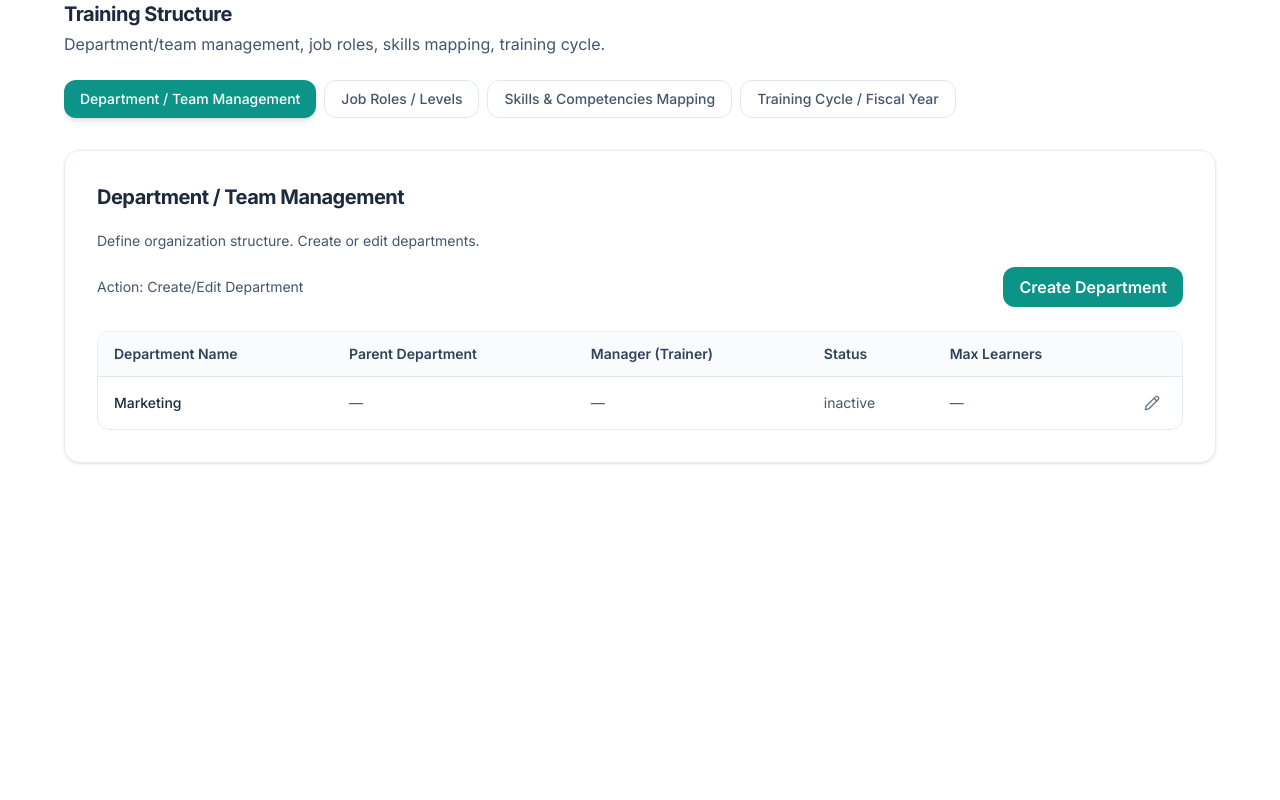
Test: AcademicSetup – Department CRUD › pre-fills department form with existing values when editing
Click the button named "Edit": (1152, 403) x1=1138 y1=389 x2=1166 y2=417
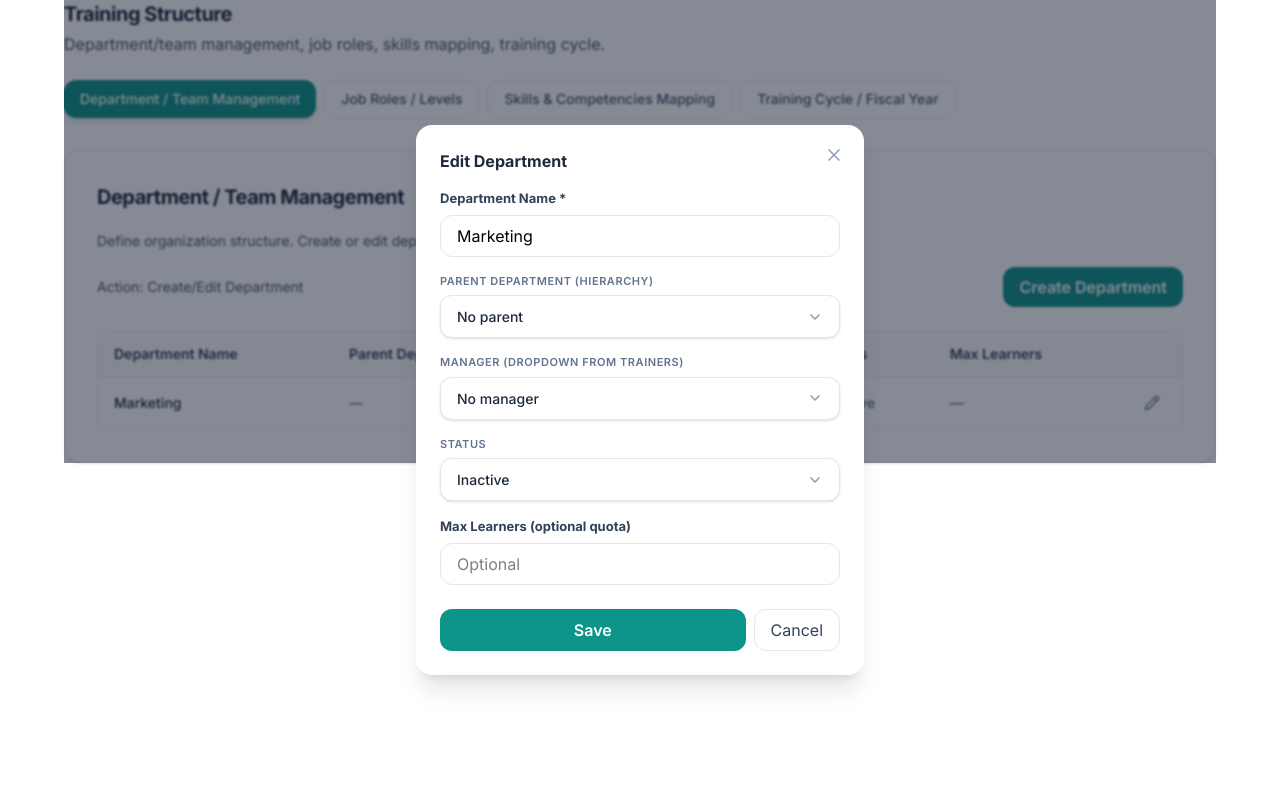
expect the field with placeholder "e.g. Engineering" holds "Marketing": met, box x1=440 y1=215 x2=840 y2=257
